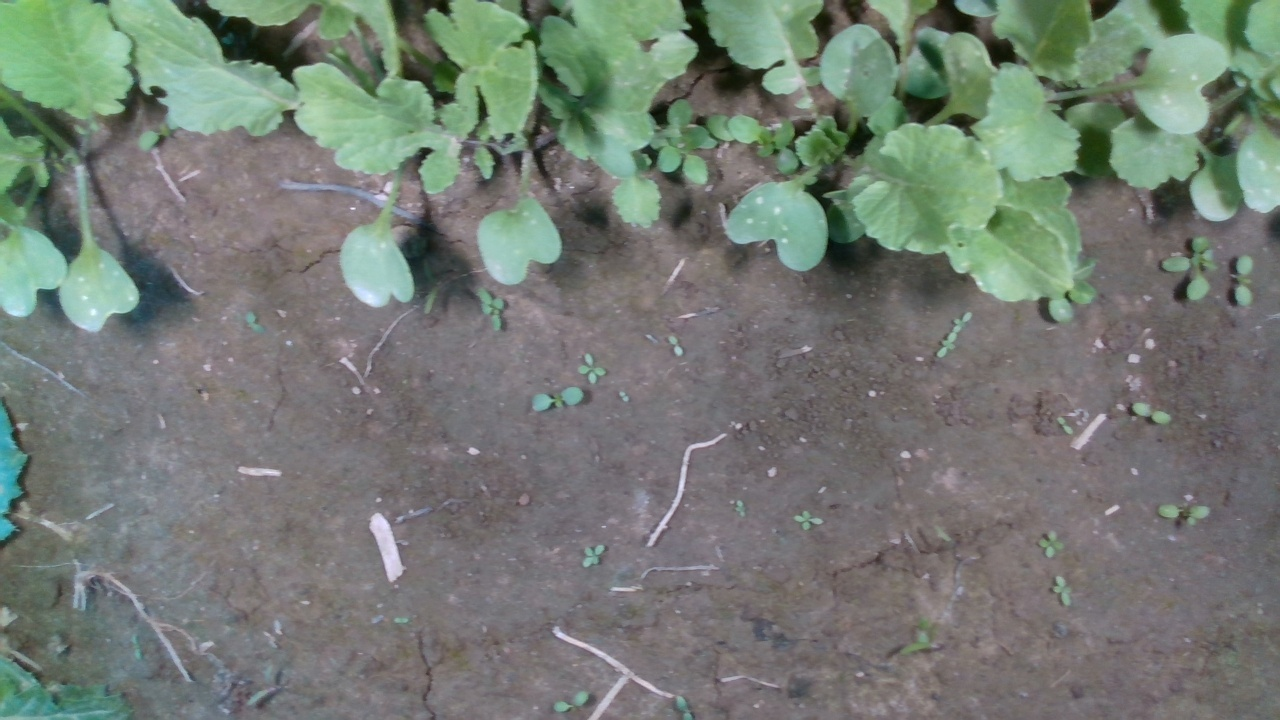weed: (532, 386, 585, 413), (478, 287, 507, 333), (1230, 255, 1255, 308), (1157, 503, 1211, 526), (576, 352, 608, 385), (1131, 401, 1173, 425), (553, 688, 591, 712), (1038, 527, 1065, 558), (793, 508, 825, 531), (1051, 574, 1073, 606), (582, 542, 605, 568), (935, 332, 957, 357), (245, 311, 266, 335), (951, 310, 972, 333), (667, 333, 684, 357), (1055, 415, 1073, 436), (733, 497, 747, 520)
